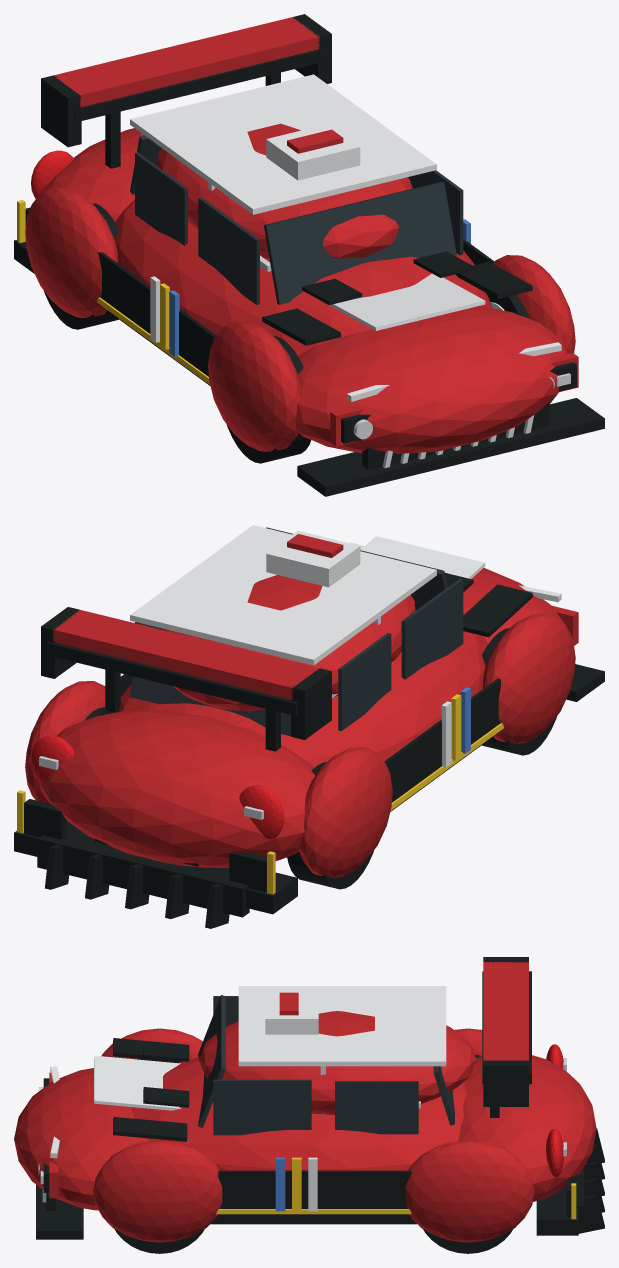
Rendered from michael-v64-clean.glb.
3 views of the same model, one above another, from view 1: azimuth 30°, elevation 25°; view 2: azimuth 150°, elevation 25°; view 3: azimuth 270°, elevation 25° (orthographic). The views are drawn at different scales.
Parts seen in each view (by area): view 1: nose, white_roof, body_main, windshield, wing_upper, flare_-1_1.62, flare_-1_-1.62, roof_shell, front_splitter, hood_white, rear_haunch, side_glass_front_-1 (+22 smaller); view 2: rear_haunch, white_roof, body_main, wing_upper, flare_-1_-1.62, flare_-1_1.62, rear_diffuser, roof_shell, side_glass_front_-1, wing_main, side_black_-1, side_glass_rear_-1 (+29 smaller); view 3: white_roof, body_main, flare_1_1.62, flare_1_-1.62, rear_haunch, nose, roof_shell, side_black_1, side_glass_front_1, wing_upper, side_glass_rear_1, hood_white (+25 smaller).
Part boxes in pixels (bbox=[...]): nose: bbox=[295, 306, 568, 453]; white_roof: bbox=[130, 74, 436, 214]; body_main: bbox=[115, 199, 491, 355]; windshield: bbox=[263, 181, 456, 304]; wing_upper: bbox=[53, 17, 319, 107]; flare_-1_1.62: bbox=[208, 321, 300, 451]; flare_-1_-1.62: bbox=[25, 187, 117, 317]; roof_shell: bbox=[157, 123, 412, 258]; front_splitter: bbox=[297, 398, 604, 496]; hood_white: bbox=[329, 273, 485, 330]; rear_haunch: bbox=[41, 128, 143, 221]; side_glass_front_-1: bbox=[198, 197, 259, 304]; rear_haunch: bbox=[38, 710, 314, 867]; white_roof: bbox=[130, 525, 436, 665]; body_main: bbox=[118, 612, 487, 767]; wing_upper: bbox=[53, 610, 319, 700]; flare_-1_-1.62: bbox=[299, 747, 392, 877]; flare_-1_1.62: bbox=[483, 613, 575, 743]; rear_diffuser: bbox=[37, 835, 249, 917]; roof_shell: bbox=[161, 575, 415, 711]; side_glass_front_-1: bbox=[401, 578, 463, 679]; wing_main: bbox=[46, 641, 297, 715]; side_black_-1: bbox=[384, 678, 500, 802]; side_glass_rear_-1: bbox=[338, 633, 391, 731]; white_roof: bbox=[238, 986, 446, 1066]; body_main: bbox=[131, 1057, 466, 1170]; flare_1_1.62: bbox=[93, 1140, 222, 1242]; flare_1_-1.62: bbox=[405, 1140, 534, 1242]; rear_haunch: bbox=[458, 1055, 596, 1201]; nose: bbox=[14, 1068, 148, 1210]; roof_shell: bbox=[198, 1011, 476, 1115]; side_black_1: bbox=[218, 1170, 412, 1208]; side_glass_front_1: bbox=[213, 1079, 311, 1135]; wing_upper: bbox=[483, 962, 528, 1060]; side_glass_rear_1: bbox=[335, 1081, 418, 1134]; hood_white: bbox=[94, 1055, 181, 1110].
Size of the model in its own units: 3.34 by 2.3 by 6.21.
